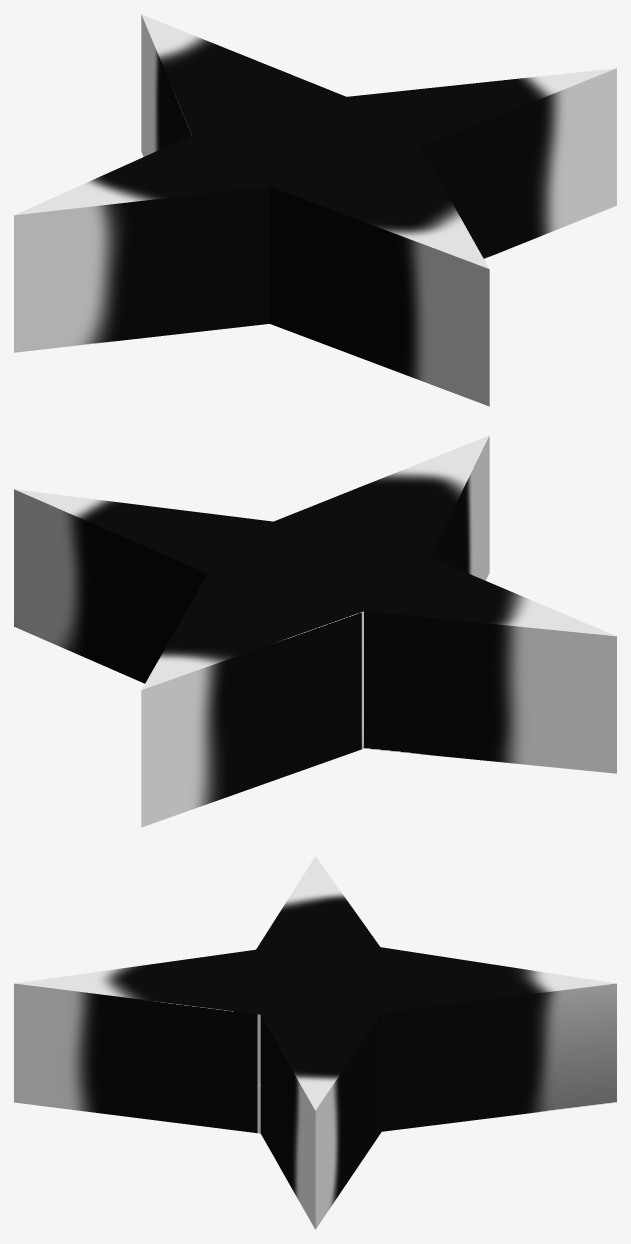
File: Shuriken.obj
3 views of the same model, one above another, from view 1: azimuth 30°, elevation 25°; view 2: azimuth 150°, elevation 25°; view 3: azimuth 270°, elevation 25° (orthographic). The views are drawn at different scales.
Parts seen in each view (by area): view 1: Cube; view 2: Cube; view 3: Cube.
Boxes of the visible parts, x1,y1,x2,y2 form: Cube: (14,14,616,406); Cube: (14,435,616,827); Cube: (14,856,616,1229).
Size of the model in its own units: 2 by 0.4355 by 2.
Materials: 1 (1 with a texture image).
